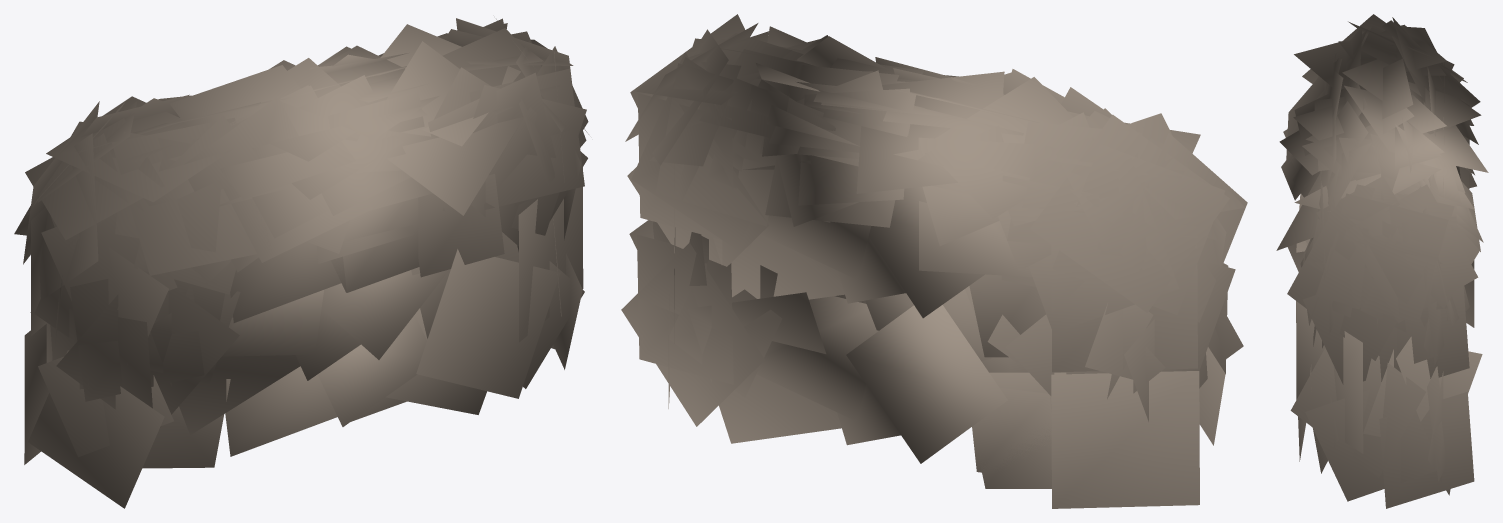
Rendered from Bush_Large.glb.
3 renders of one model, left to right at view 1: azimuth 30°, elevation 25°; view 2: azimuth 150°, elevation 25°; view 3: azimuth 270°, elevation 25°, orthographic. The views are drawn at different scales.
Visible parts, largest first — view 1: Bush_Leaves; view 2: Bush_Leaves; view 3: Bush_Leaves.
Boxes of the visible parts, bbox=[...] form: Bush_Leaves: bbox=[14, 18, 588, 508]; Bush_Leaves: bbox=[621, 14, 1247, 508]; Bush_Leaves: bbox=[1276, 14, 1488, 508].
Bounding box in the file's own units: 1.9 × 1.22 × 0.7238.
